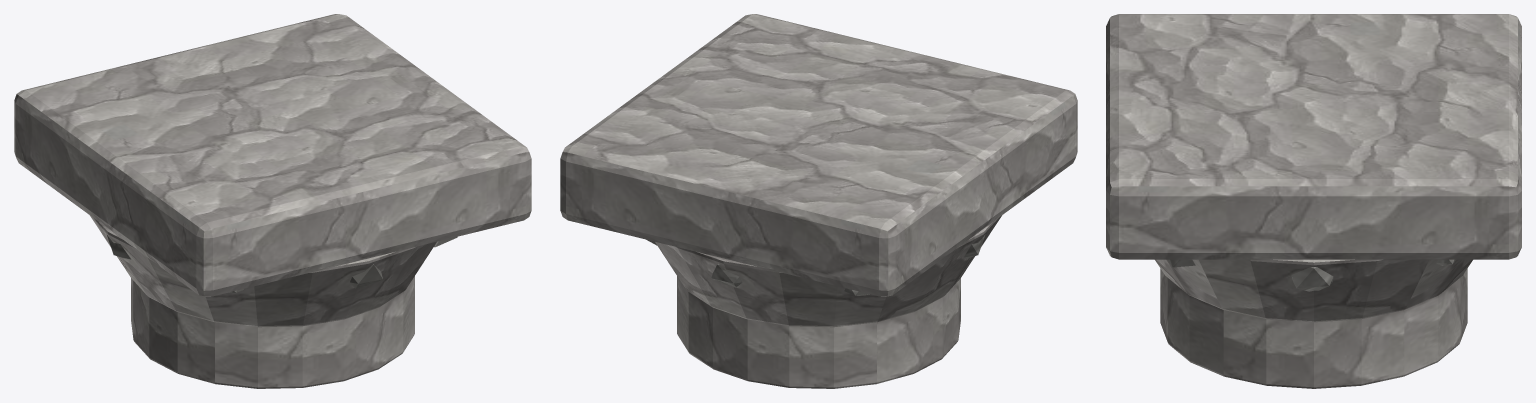
The model's file is column_capital__ancient_brick.glb.
3 views of the same model, side by side, from view 1: azimuth 30°, elevation 25°; view 2: azimuth 150°, elevation 25°; view 3: azimuth 270°, elevation 25° (orthographic). The views are drawn at different scales.
Visible parts, largest first — view 1: model; view 2: model; view 3: model.
Part boxes in pixels (x1,y1,x2,y2): model: (14,14,531,388); model: (560,14,1077,388); model: (1106,14,1521,388).
Size of the model in its own units: 0.8 by 0.485 by 0.8.
2 materials, 2 textured.
